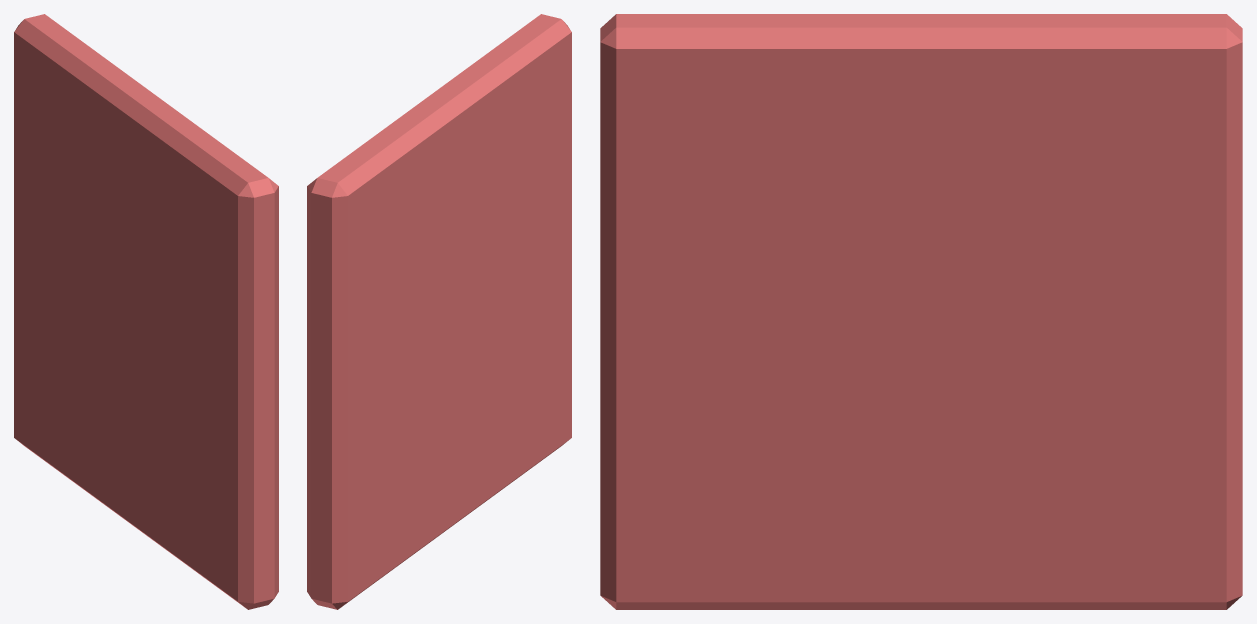
The model's file is p_BasicSquare.fbx.
The picture shows the model from 3 angles, left to right: view 1: azimuth 30°, elevation 25°; view 2: azimuth 150°, elevation 25°; view 3: azimuth 270°, elevation 25°; orthographic projection. The views are drawn at different scales.
Visible parts, largest first — view 1: pCube5; view 2: pCube5; view 3: pCube5.
Part boxes in pixels (x1,y1,x2,y2): pCube5: (14,14,278,609); pCube5: (307,14,571,609); pCube5: (600,14,1242,609).
Bounding box in the file's own units: 0.1 × 1 × 1.
